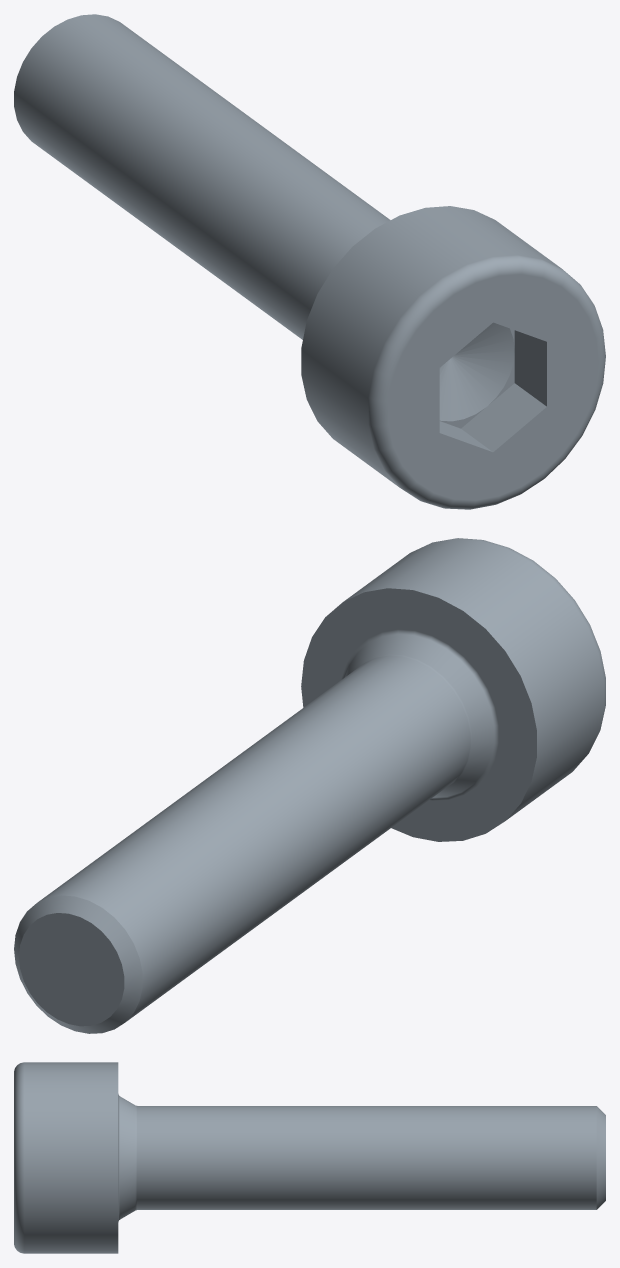
File: Hex_socket_head_cap_screw_M3x0_50_x_14.obj
3 views of the same model, one above another, from view 1: azimuth 30°, elevation 25°; view 2: azimuth 150°, elevation 25°; view 3: azimuth 270°, elevation 25° (orthographic). The views are drawn at different scales.
Parts seen in each view (by area): view 1: mesh3311, mesh3318, mesh3316, mesh3317, mesh3326, mesh3324, mesh3319; view 2: mesh3311, mesh3316, mesh3315, mesh3309, mesh3313, mesh3310, mesh3314, mesh3317; view 3: mesh3311, mesh3316, mesh3317, mesh3313, mesh3310, mesh3314, mesh3312.
Boxes of the visible parts, x1=… form: mesh3311: x1=14, y1=14, x2=390, y2=339; mesh3318: x1=388, y1=274, x2=598, y2=500; mesh3316: x1=301, y1=206, x2=561, y2=487; mesh3317: x1=368, y1=255, x2=605, y2=509; mesh3326: x1=439, y1=322, x2=514, y2=421; mesh3324: x1=461, y1=383, x2=546, y2=451; mesh3319: x1=514, y1=330, x2=546, y2=406; mesh3311: x1=37, y1=655, x2=470, y2=1021; mesh3316: x1=343, y1=539, x2=603, y2=820; mesh3315: x1=301, y1=588, x2=536, y2=841; mesh3309: x1=19, y1=913, x2=124, y2=1026; mesh3313: x1=345, y1=634, x2=493, y2=797; mesh3310: x1=14, y1=895, x2=142, y2=1033; mesh3314: x1=341, y1=629, x2=498, y2=800; mesh3317: x1=411, y1=538, x2=605, y2=767; mesh3311: x1=137, y1=1106, x2=596, y2=1209; mesh3316: x1=24, y1=1062, x2=118, y2=1253; mesh3317: x1=14, y1=1062, x2=24, y2=1253; mesh3313: x1=120, y1=1096, x2=135, y2=1219; mesh3310: x1=596, y1=1106, x2=605, y2=1209; mesh3314: x1=118, y1=1094, x2=120, y2=1221; mesh3312: x1=135, y1=1105, x2=137, y2=1210.
Bounding box in the file's own units: 0.00548 × 0.00549 × 0.017.
